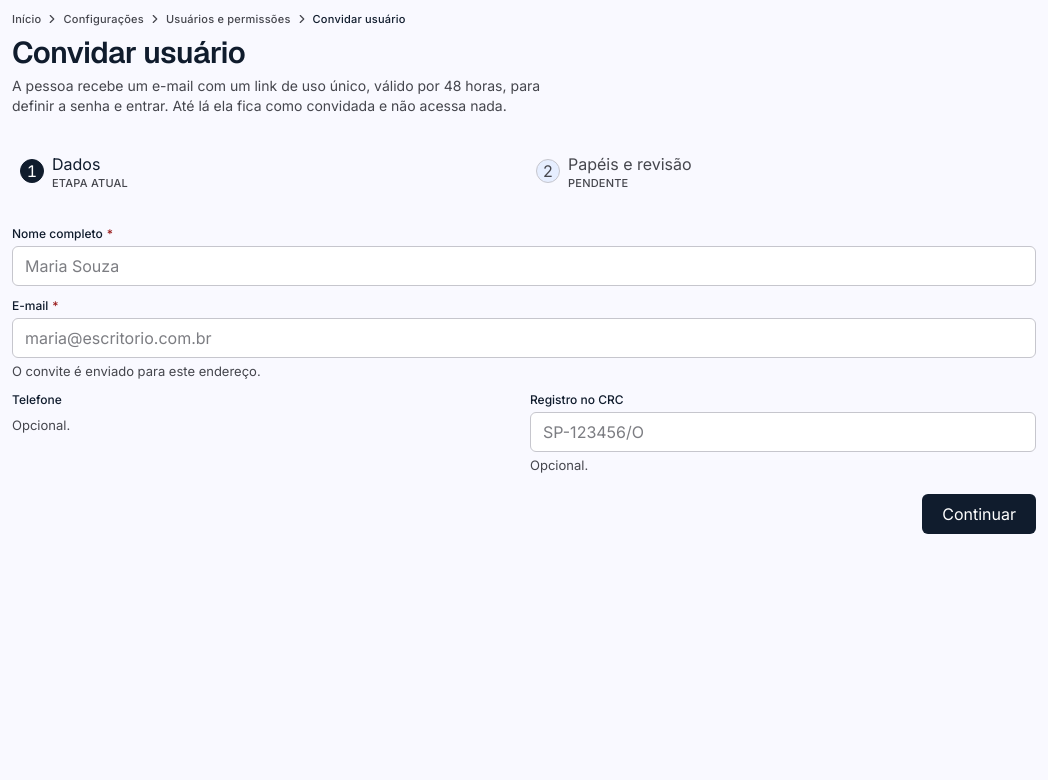
Test: etapa 1 — Dados › não avança sem dados válidos e mostra o que corrigir, sem desabilitar o botão
Expected: the field labelled "Nome completo*" is shown, [12,246,1036,286]
Step 1. Click the button "Continuar" → x=979, y=514, box [922,494,1036,534]
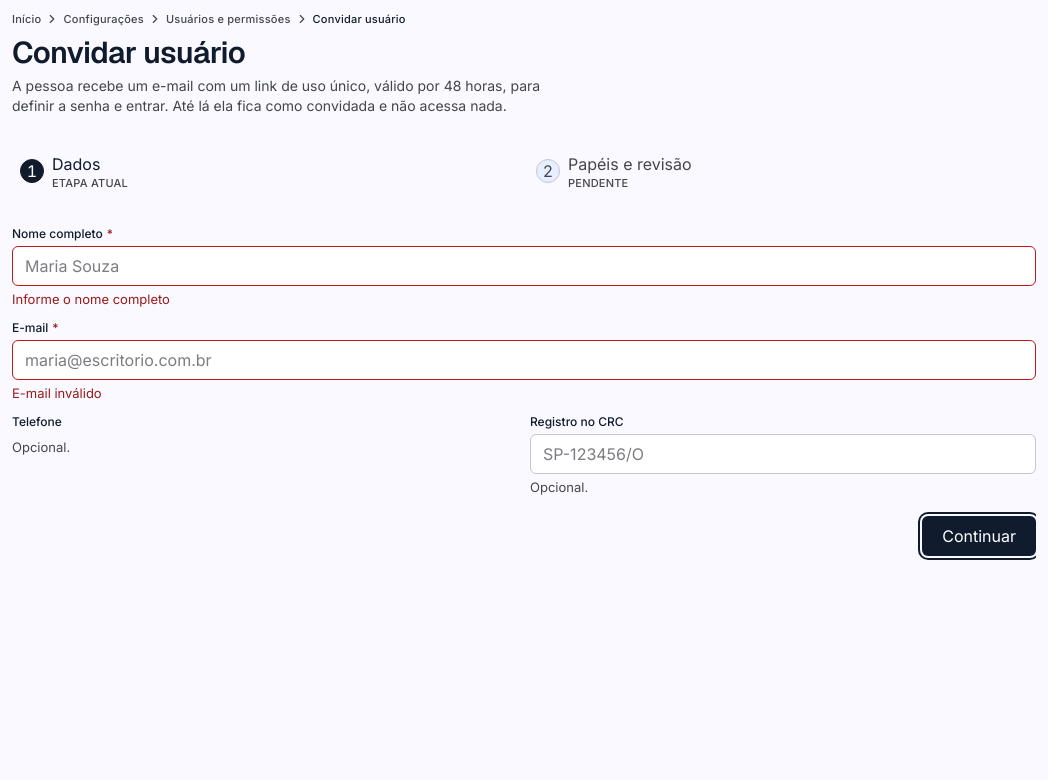
Expected: the button "Continuar" is enabled, [922,516,1036,556]
Result: the text "Informe o nome completo" is shown at [12,291,170,307]
Result: the text "E-mail inválido" is shown at [12,385,102,401]
